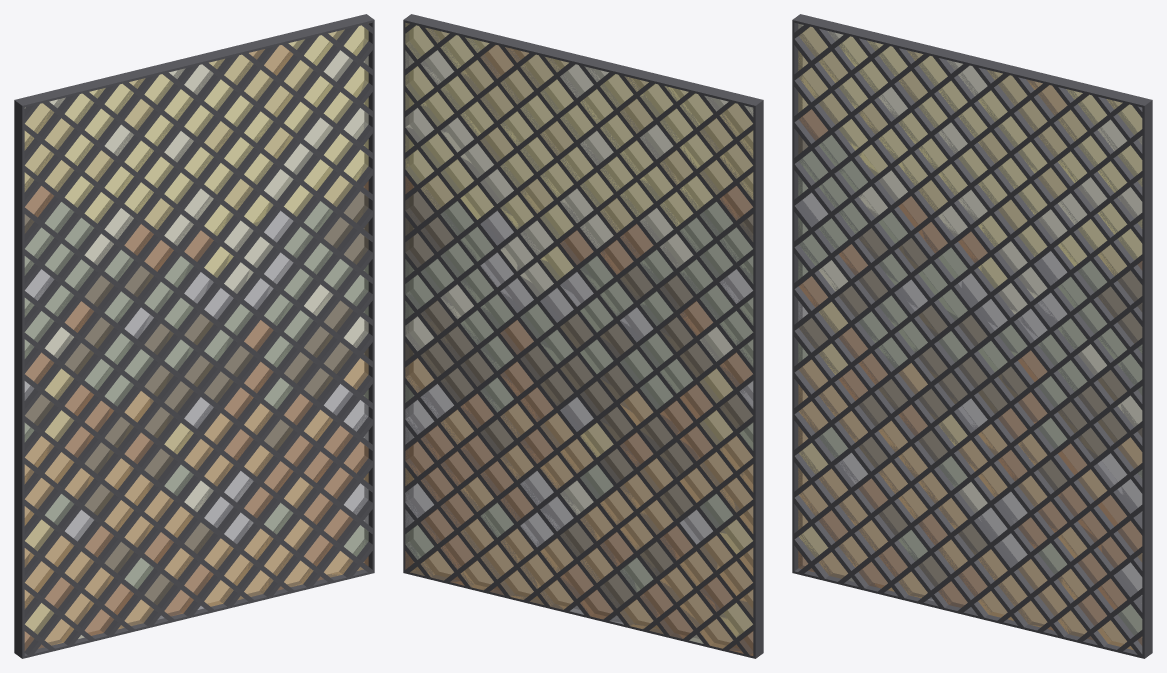
Rendered from stained_glass.glb.
3 renders of one model, left to right at view 1: azimuth 30°, elevation 25°; view 2: azimuth 150°, elevation 25°; view 3: azimuth 330°, elevation 25°, orthographic.
Visible parts, largest first — view 1: lead_came, glass_188_120_52, glass_245_221_100, glass_113_128_94, glass_137_73_35, glass_63_51_33, glass_213_178_80, glass_230_226_177, glass_157_156_164; view 2: lead_came, glass_188_120_52, glass_113_128_94, glass_245_221_100, glass_137_73_35, glass_63_51_33, glass_213_178_80, glass_230_226_177, glass_157_156_164; view 3: lead_came, glass_188_120_52, glass_245_221_100, glass_113_128_94, glass_137_73_35, glass_63_51_33, glass_213_178_80, glass_230_226_177, glass_157_156_164.
Part boxes in pixels (x1,y1,x2,y2): lead_came: (14, 14, 374, 658); glass_188_120_52: (24, 45, 368, 645); glass_245_221_100: (64, 25, 368, 277); glass_113_128_94: (24, 201, 368, 589); glass_137_73_35: (24, 181, 368, 650); glass_63_51_33: (24, 191, 368, 605); glass_213_178_80: (24, 29, 352, 634); glass_230_226_177: (24, 50, 368, 638); glass_157_156_164: (24, 210, 368, 619); lead_came: (403, 14, 763, 658); glass_188_120_52: (405, 45, 753, 648); glass_113_128_94: (405, 201, 753, 592); glass_245_221_100: (405, 25, 713, 280); glass_137_73_35: (405, 176, 753, 655); glass_63_51_33: (405, 191, 753, 608); glass_213_178_80: (405, 23, 753, 637); glass_230_226_177: (405, 50, 753, 643); glass_157_156_164: (405, 210, 753, 624); lead_came: (792, 14, 1152, 658); glass_188_120_52: (798, 79, 1142, 649); glass_245_221_100: (838, 36, 1142, 288); glass_113_128_94: (798, 135, 1142, 635); glass_137_73_35: (798, 109, 1142, 645); glass_63_51_33: (798, 134, 1142, 586); glass_213_178_80: (798, 26, 1126, 557); glass_230_226_177: (798, 24, 1142, 581); glass_157_156_164: (798, 192, 1142, 610).
Size of the model in its own units: 200 by 300 by 8.
